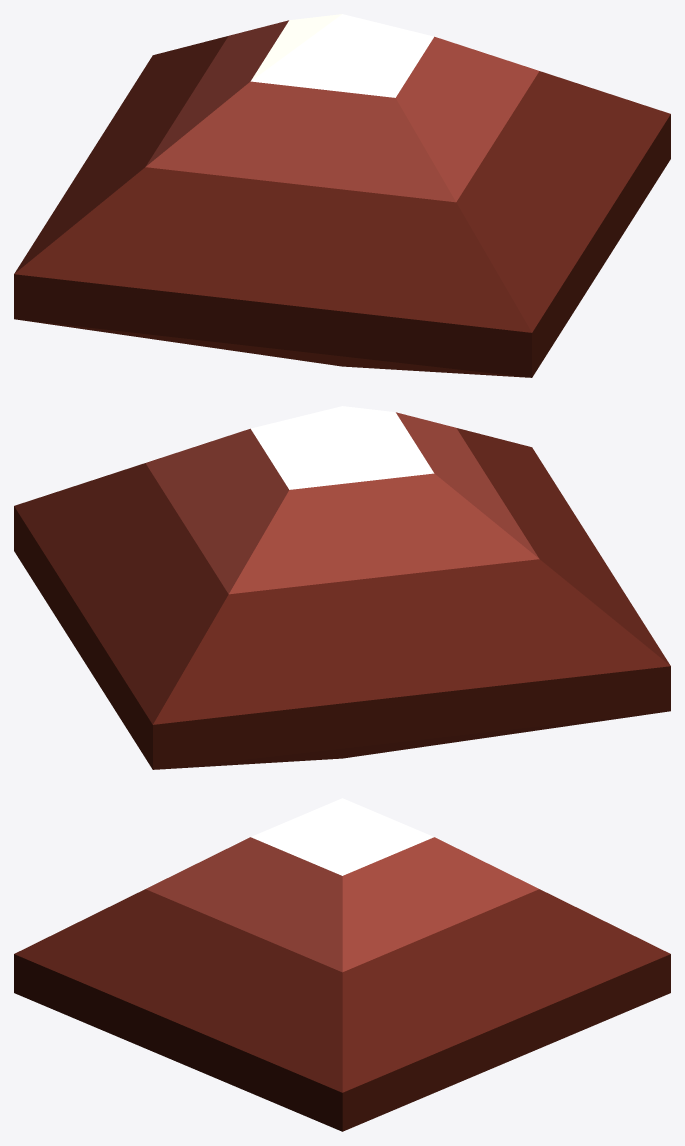
File: tyrian10-76.glb
3 views of the same model, one above another, from view 1: azimuth 30°, elevation 25°; view 2: azimuth 150°, elevation 25°; view 3: azimuth 270°, elevation 25° (orthographic). The views are drawn at different scales.
Parts seen in each view (by area): view 1: tyrian10-76; view 2: tyrian10-76; view 3: tyrian10-76.
Boxes of the visible parts, <box> form: tyrian10-76: <box>14,14,670,377</box>; tyrian10-76: <box>14,406,670,769</box>; tyrian10-76: <box>14,798,670,1131</box>.
Size of the model in its own units: 0.9167 by 0.47 by 0.9167.
